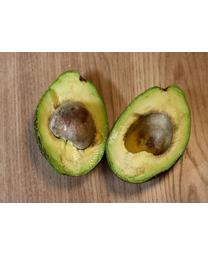avocado: (108, 85, 191, 184), (34, 71, 108, 178)
